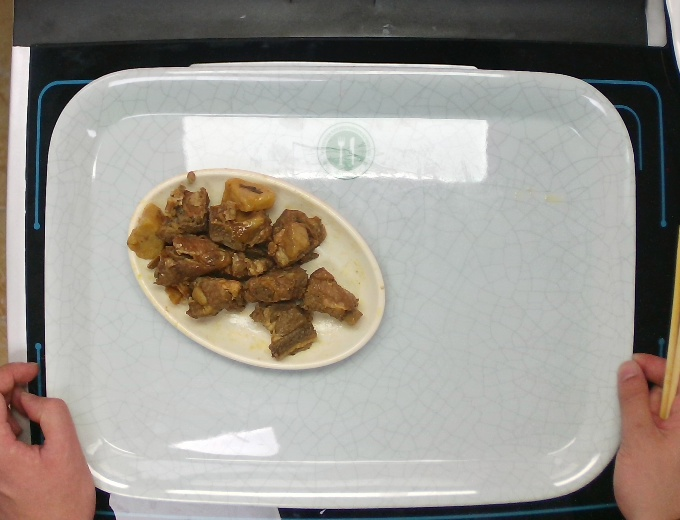JYsf-Tuo_Yuan_Wan: (124, 162, 390, 373)
